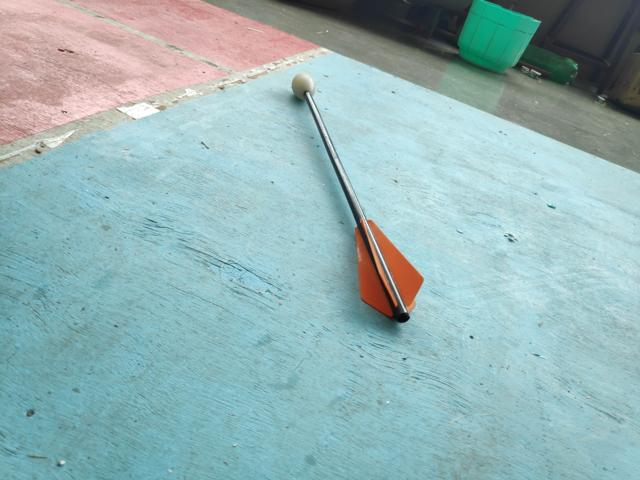Head: (289, 71, 318, 100)
Tail: (349, 217, 427, 325)
